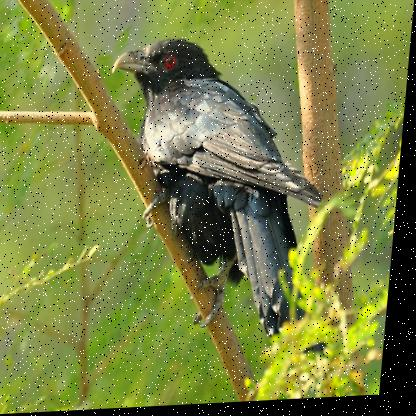Burung: (94, 33, 338, 347)
